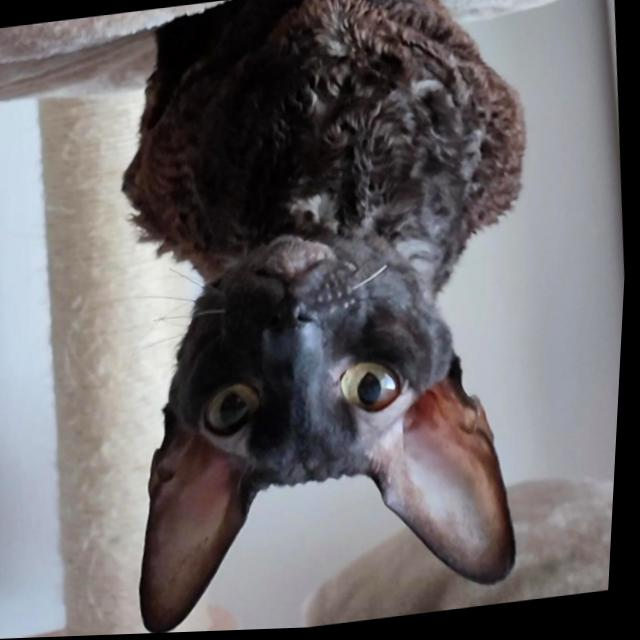Cornish Rex: (82, 0, 580, 637)
